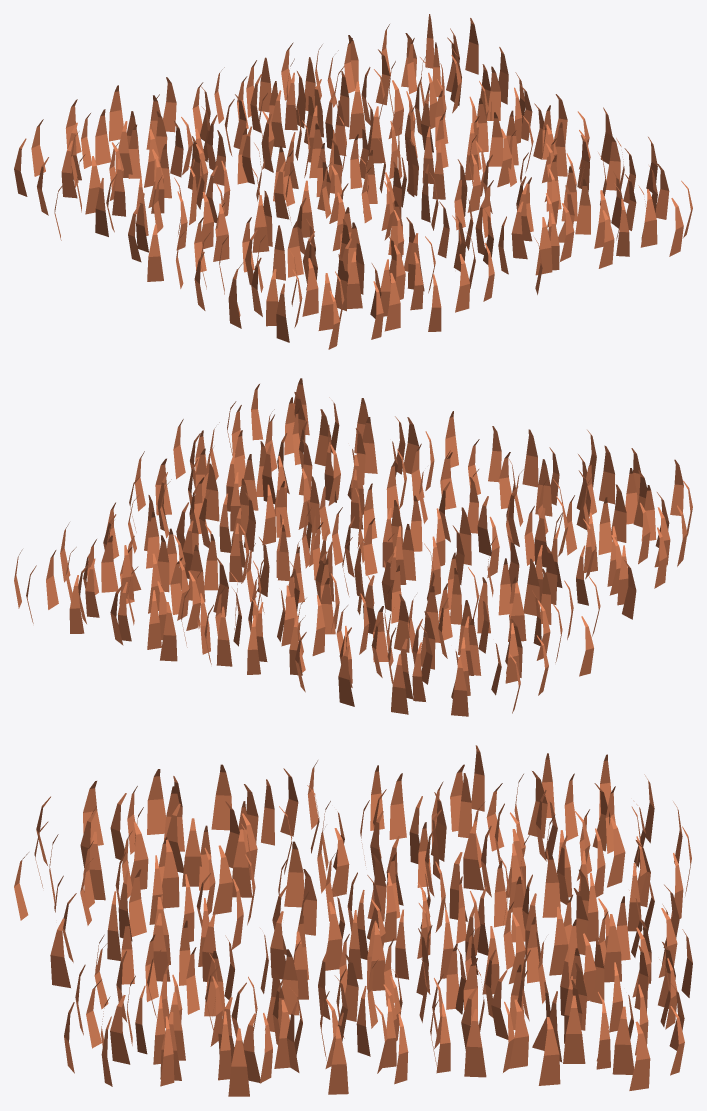
The model's file is Grass.fbx.
3 renders of one model, top to bottom at view 1: azimuth 30°, elevation 25°; view 2: azimuth 150°, elevation 25°; view 3: azimuth 270°, elevation 25°, orthographic. The views are drawn at different scales.
Parts seen in each view (by area): view 1: Cube.039; view 2: Cube.039; view 3: Cube.039.
Boxes of the visible parts, <box> form: Cube.039: <box>14,14,692,349</box>; Cube.039: <box>14,378,692,716</box>; Cube.039: <box>14,745,692,1096</box>.
Size of the model in its own units: 1766 by 187 by 1727.
